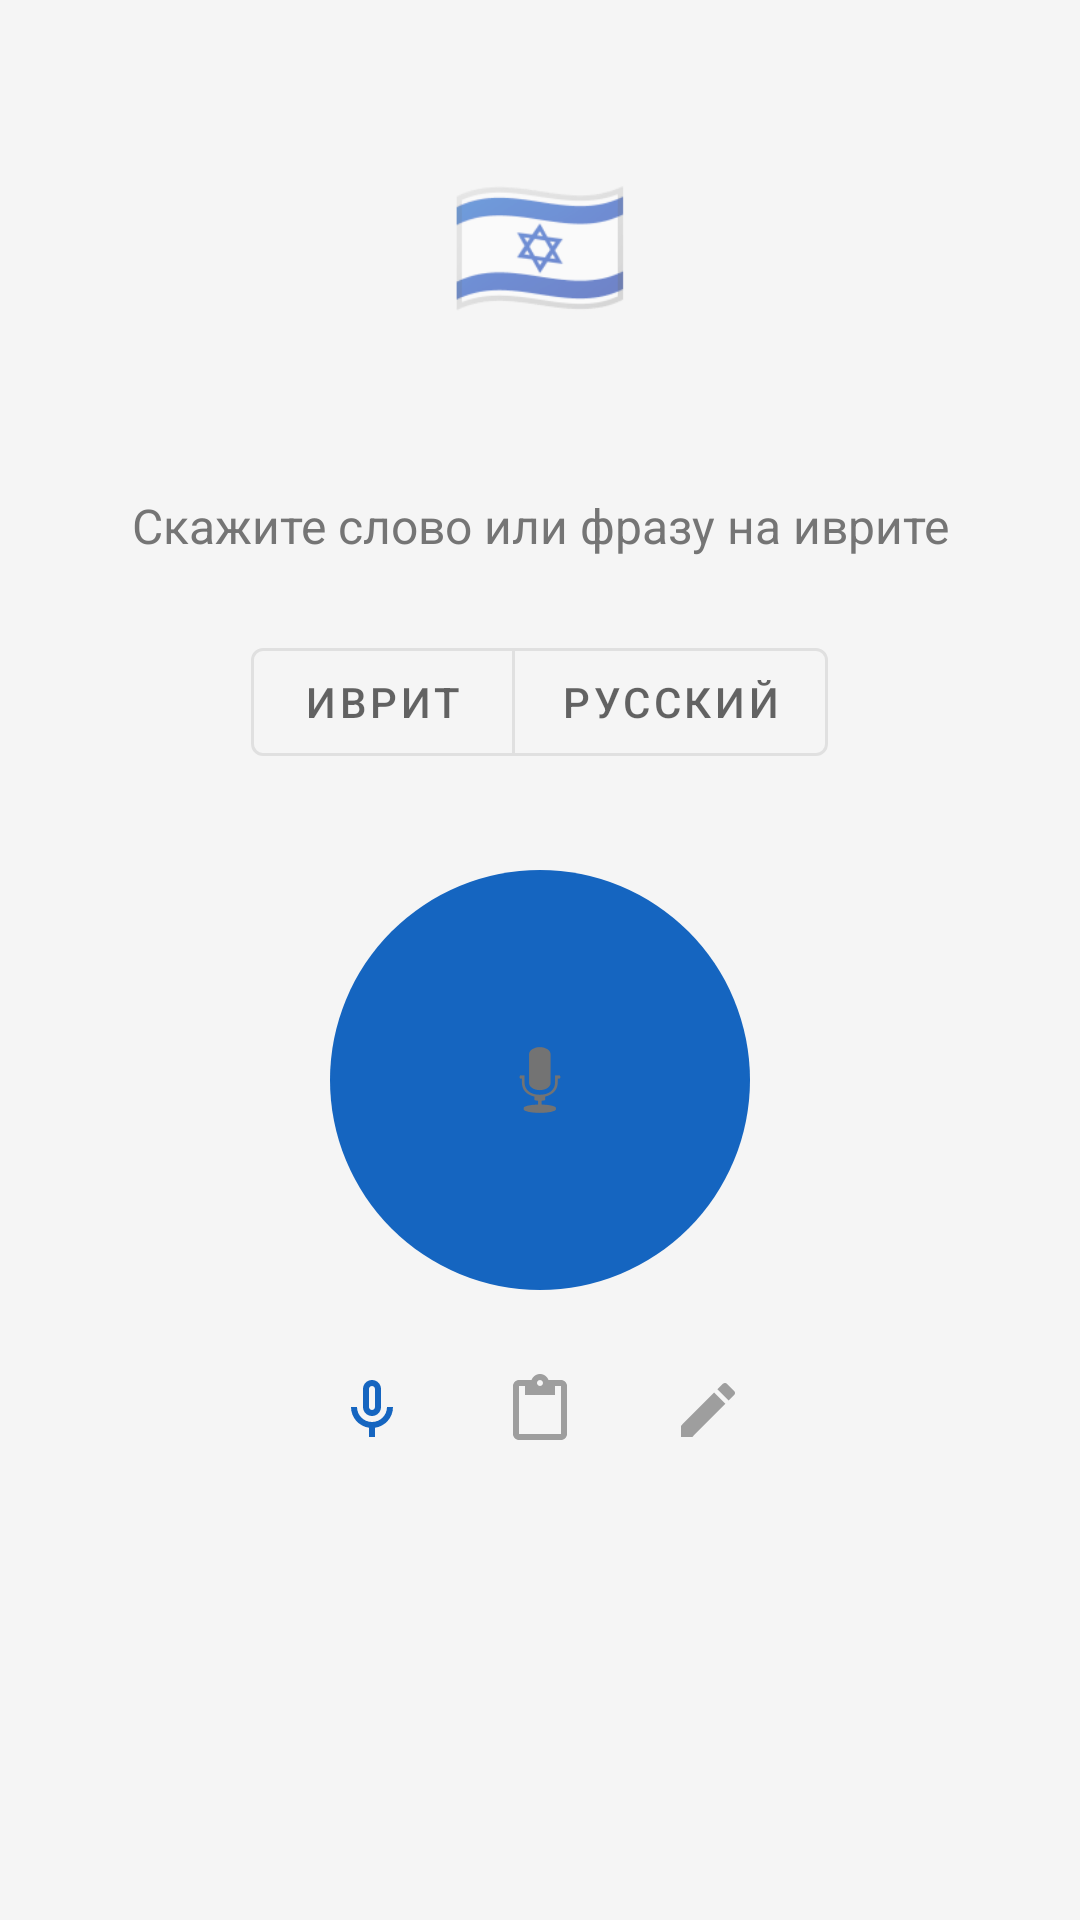

Locate icon controls on the screen. Image size 1080x1920, boxes as (x1, y1, x2, y2).
Ввод текста: (681, 1383, 735, 1437)
Вставить из буфера: (513, 1374, 567, 1440)
Голосовой ввод: (351, 1380, 393, 1437)
